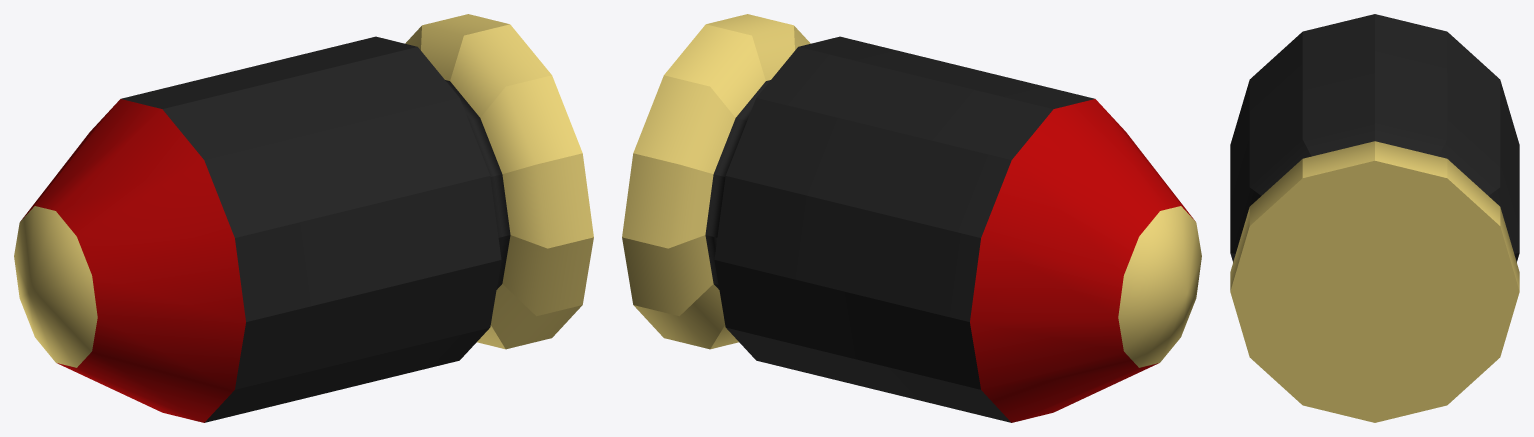
File: Bazooka_Bullet.fbx
3 views of the same model, side by side, from view 1: azimuth 30°, elevation 25°; view 2: azimuth 150°, elevation 25°; view 3: azimuth 270°, elevation 25° (orthographic). The views are drawn at different scales.
Visible parts, largest first — view 1: pCylinder2; view 2: pCylinder2; view 3: pCylinder2.
Part boxes in pixels (<box>): pCylinder2: <box>14,14,593,422</box>; pCylinder2: <box>622,14,1201,422</box>; pCylinder2: <box>1230,14,1519,422</box>.
Size of the model in its own units: 2.77 by 1.67 by 1.67.
